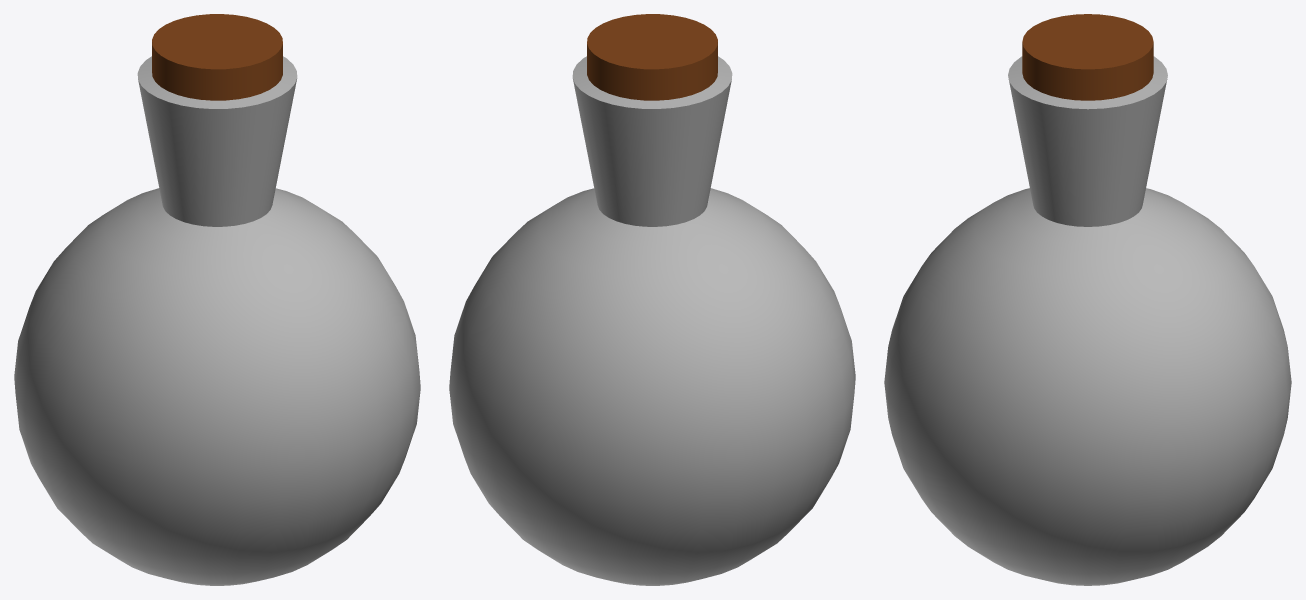
The model's file is Potion.fbx.
3 renders of one model, left to right at view 1: azimuth 30°, elevation 25°; view 2: azimuth 150°, elevation 25°; view 3: azimuth 270°, elevation 25°, orthographic.
Visible parts, largest first — view 1: Round-Potion; view 2: Round-Potion; view 3: Round-Potion.
Part boxes in pixels (x1,y1,x2,y2): Round-Potion: (14,14,420,585); Round-Potion: (449,14,855,585); Round-Potion: (884,14,1291,585).
Bounding box in the file's own units: 19.75 × 28.1 × 19.75.
